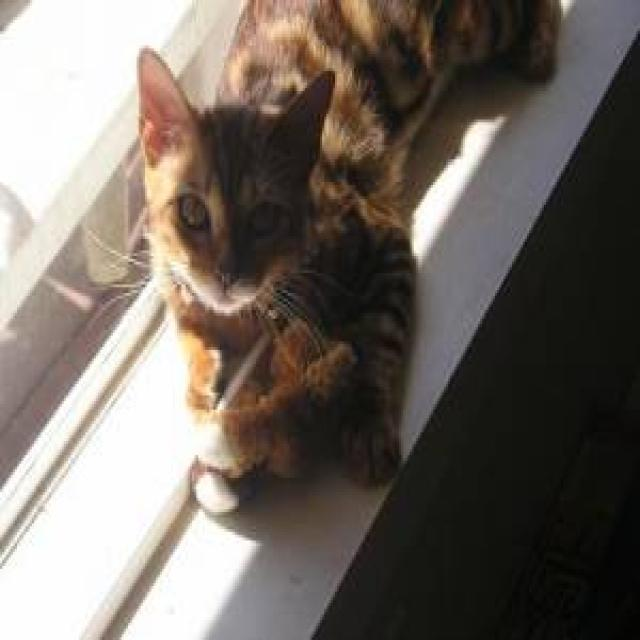Bengal: (134, 45, 333, 313)
